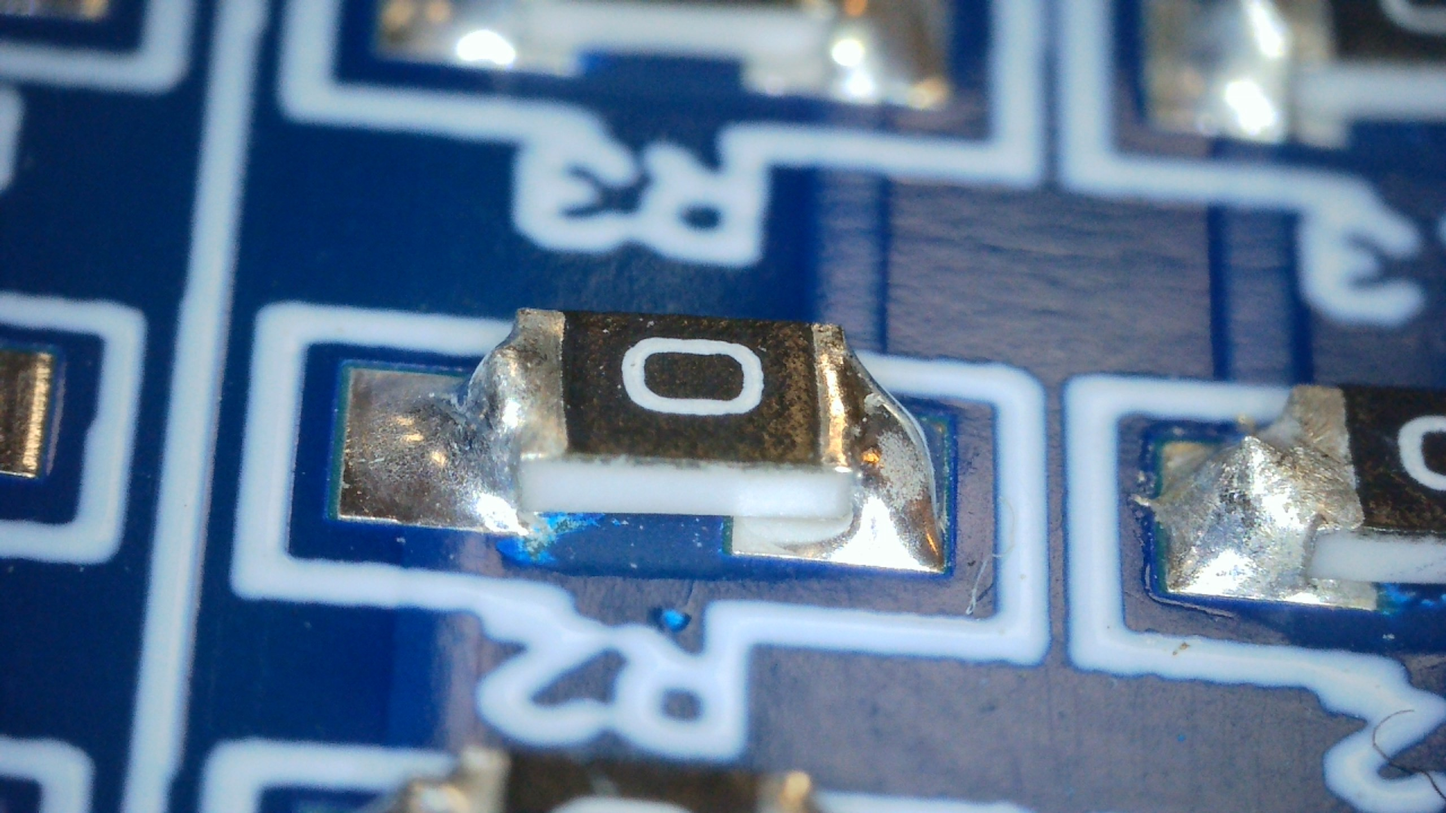NG: (814, 326, 942, 567), (438, 309, 558, 496), (470, 337, 539, 438)
